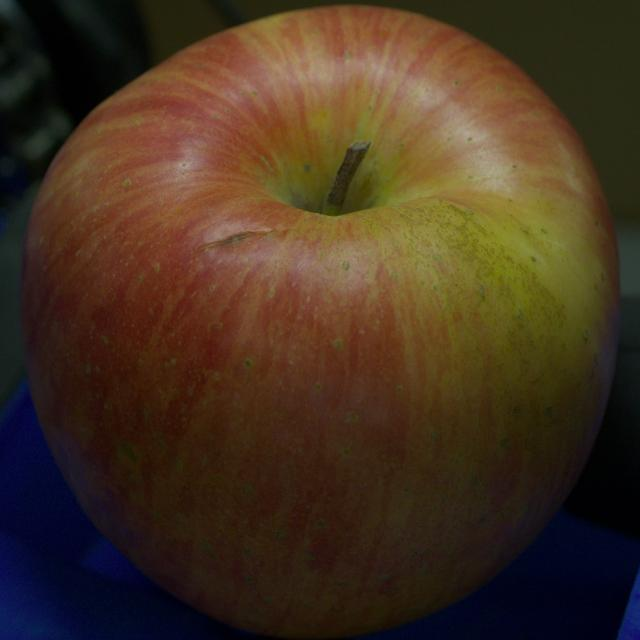apple: (21, 6, 619, 638)
scratch: (194, 231, 271, 252)
